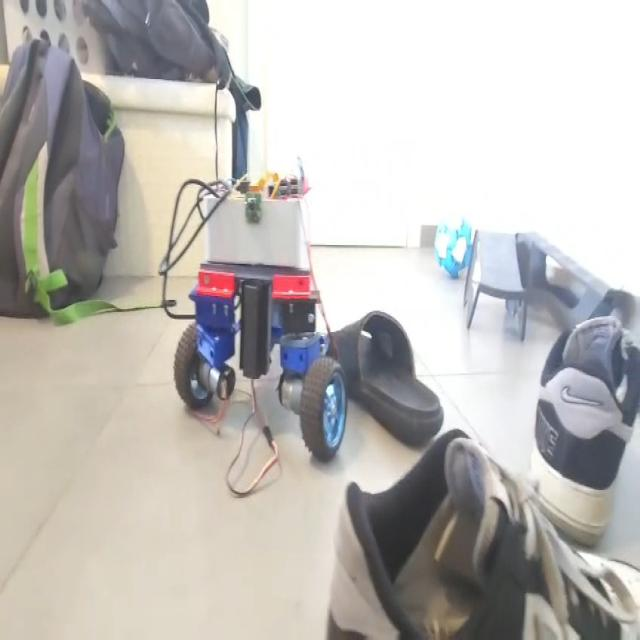Robot: (172, 144, 350, 463)
